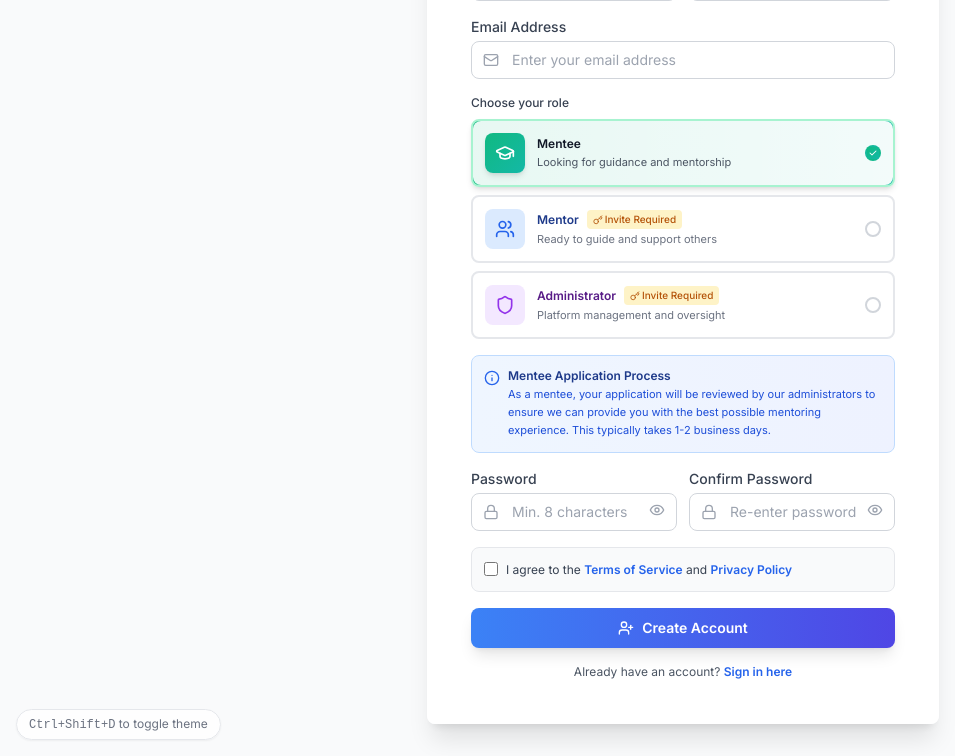
it: Authentication Flow › SignupForm Component › displays validation errors for empty required fields
(page scrolled)
Click the button "Create Account": {"x": 683, "y": 628} top-left (471, 608), bottom-right (895, 648)
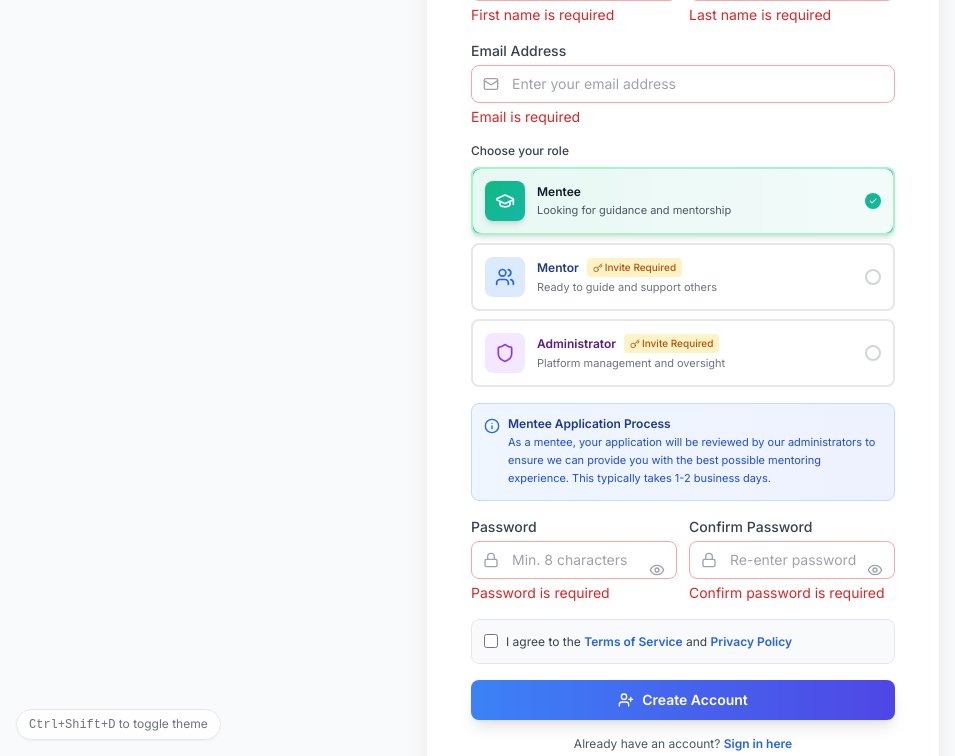
Expected: the text "First name is required" is shown, top-left (471, 6), bottom-right (614, 23)
Expected: the text "Last name is required" is shown, top-left (689, 6), bottom-right (831, 23)
Expected: the text "Email is required" is shown, top-left (471, 108), bottom-right (580, 125)
